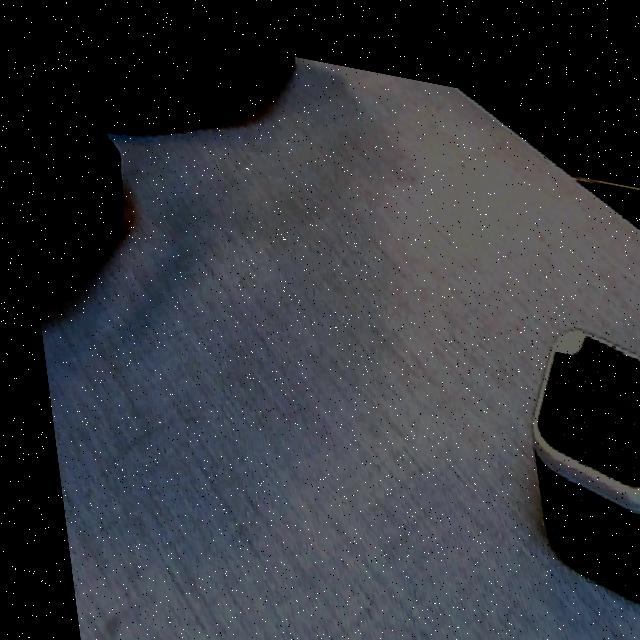adapter: (509, 294, 640, 588)
